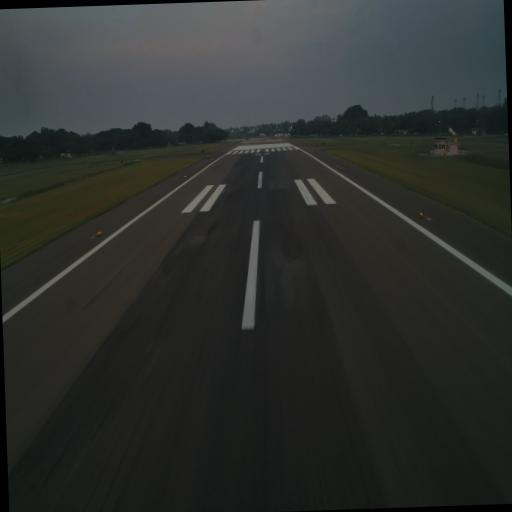on: (417, 208, 424, 222), (96, 226, 102, 238)
